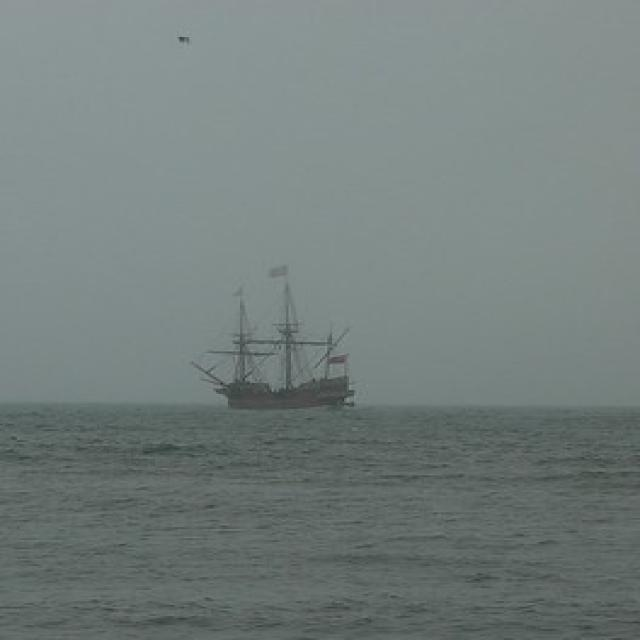fishing boat: (204, 269, 368, 403)
